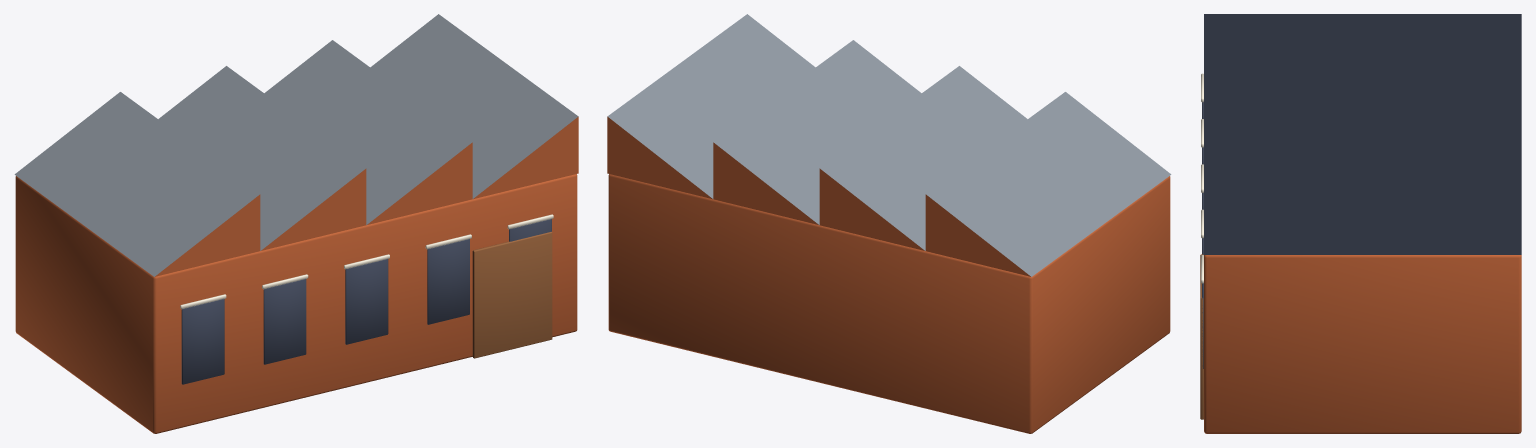
The model's file is FactoryShed.fbx.
3 views of the same model, side by side, from view 1: azimuth 30°, elevation 25°; view 2: azimuth 150°, elevation 25°; view 3: azimuth 270°, elevation 25° (orthographic). The views are drawn at different scales.
Visible parts, largest first — view 1: FactoryShed; view 2: FactoryShed; view 3: FactoryShed.
Boxes of the visible parts, x1,y1,x2,y2 form: FactoryShed: (14,14,578,433); FactoryShed: (607,14,1171,433); FactoryShed: (1200,14,1521,433).
Size of the model in its own units: 14 by 6.8 by 8.09.
1 material, 1 textured.
